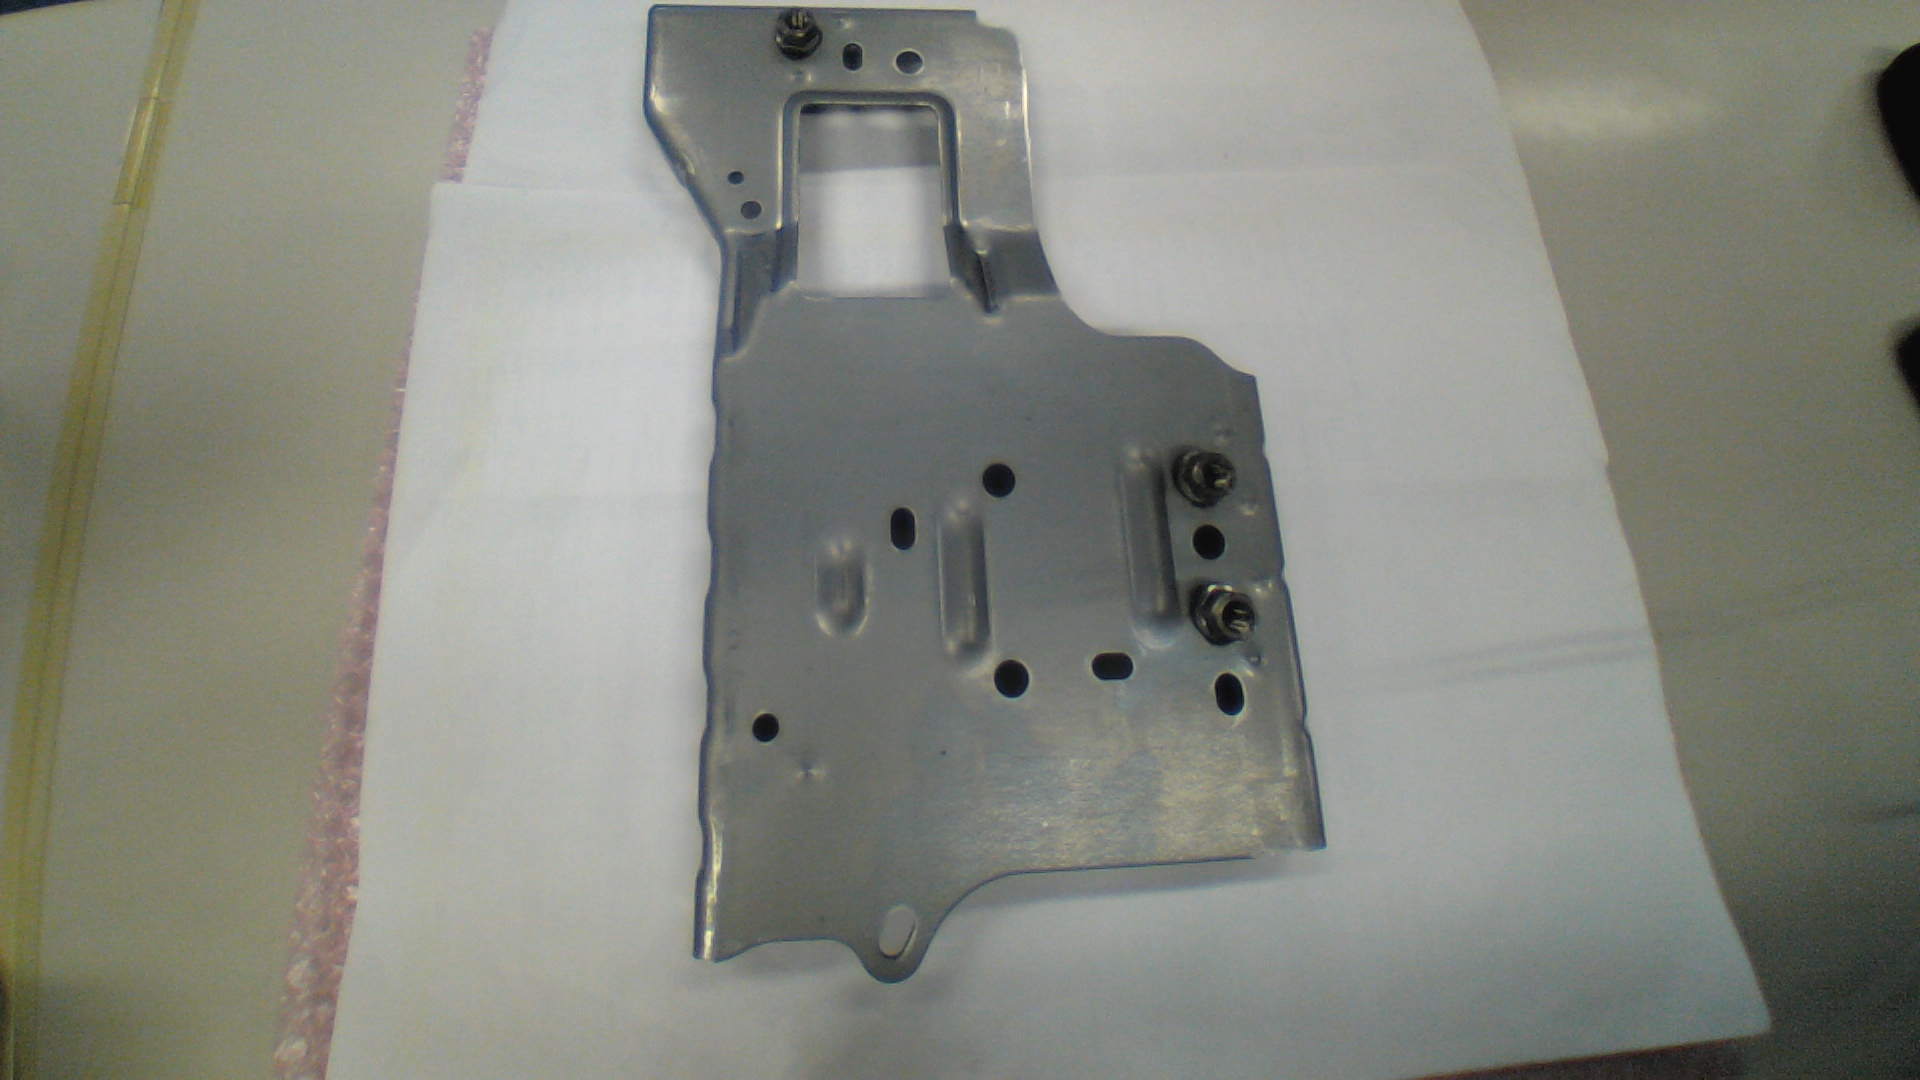dog: (1188, 580, 1259, 647), (1171, 446, 1234, 509), (773, 7, 824, 61)
